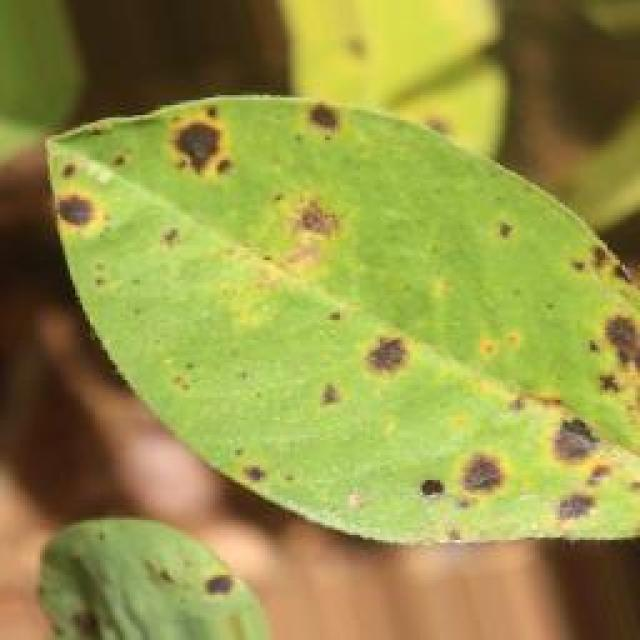Yellowish: (31, 88, 640, 531), (87, 495, 305, 640)
